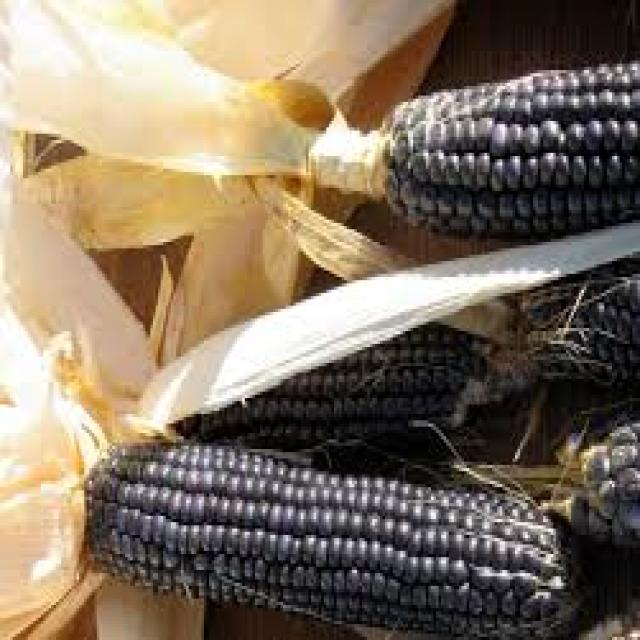discolored corn: (75, 424, 567, 636), (374, 71, 640, 209), (208, 329, 520, 445)
